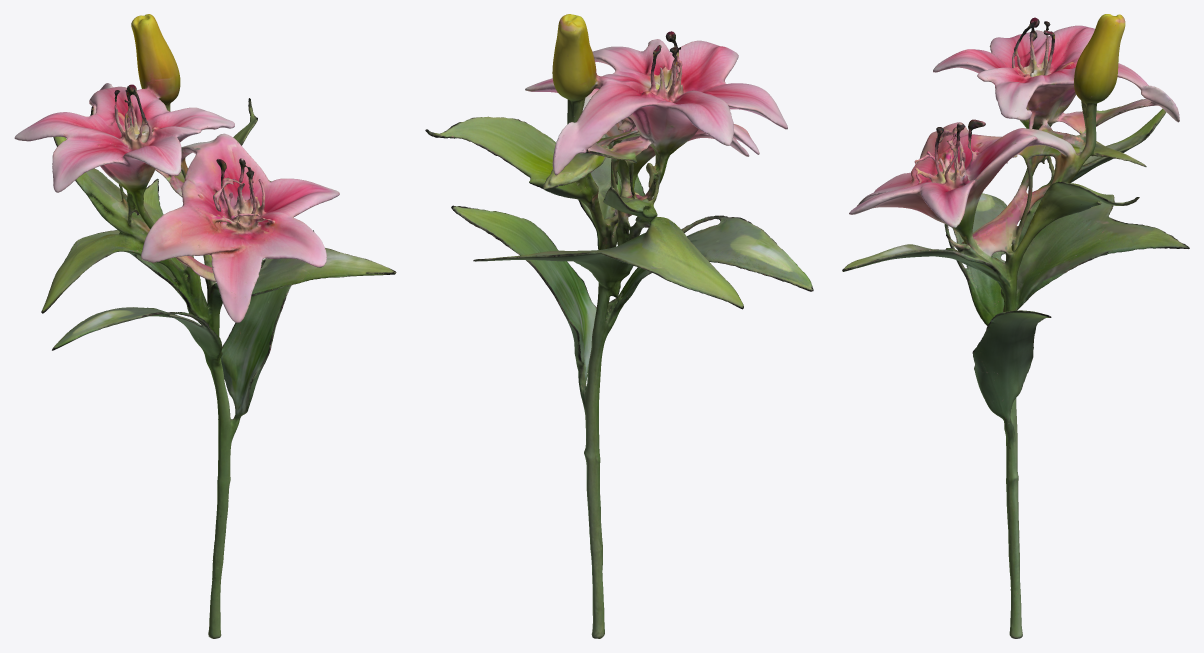
File: Hoa ly.glb
3 views of the same model, side by side, from view 1: azimuth 30°, elevation 25°; view 2: azimuth 150°, elevation 25°; view 3: azimuth 270°, elevation 25° (orthographic). The views are drawn at different scales.
Size of the model in its own units: 1.03 by 2 by 1.03.
1 material, 1 textured.
